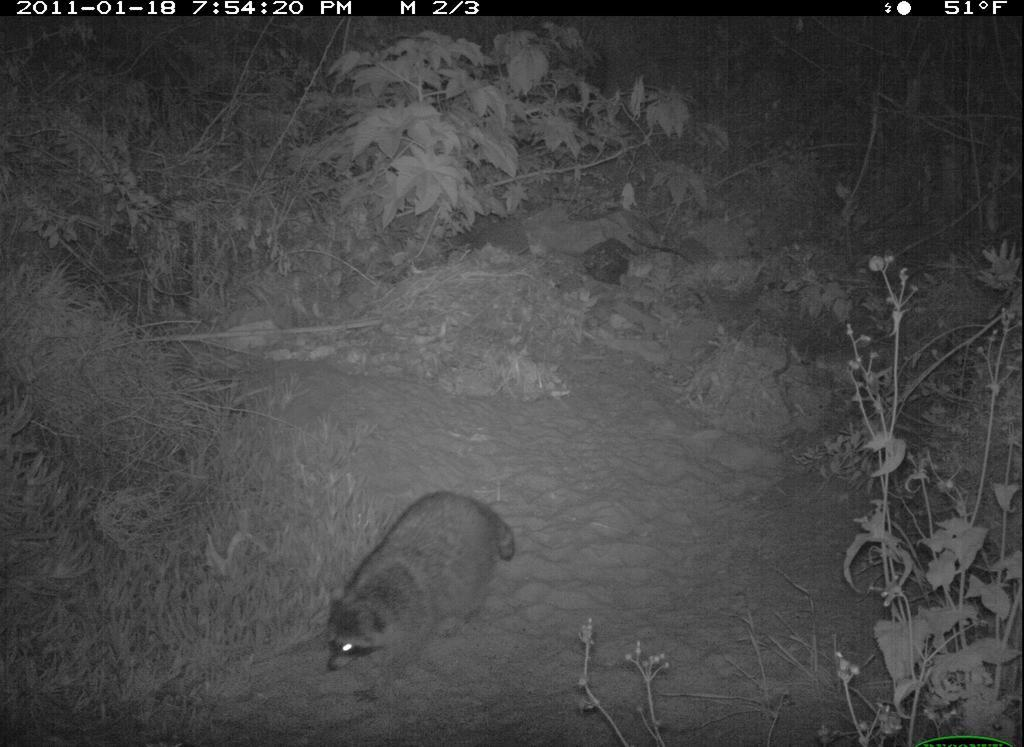raccoon: (287, 483, 539, 710)
